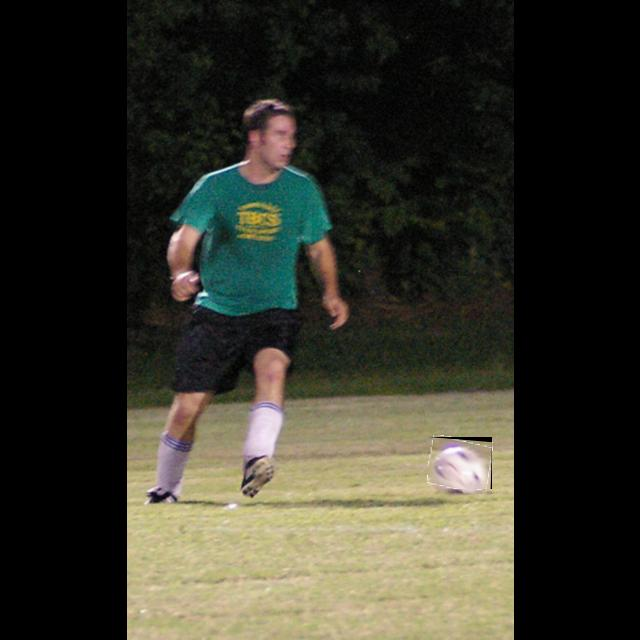Football: (428, 437, 492, 489)
